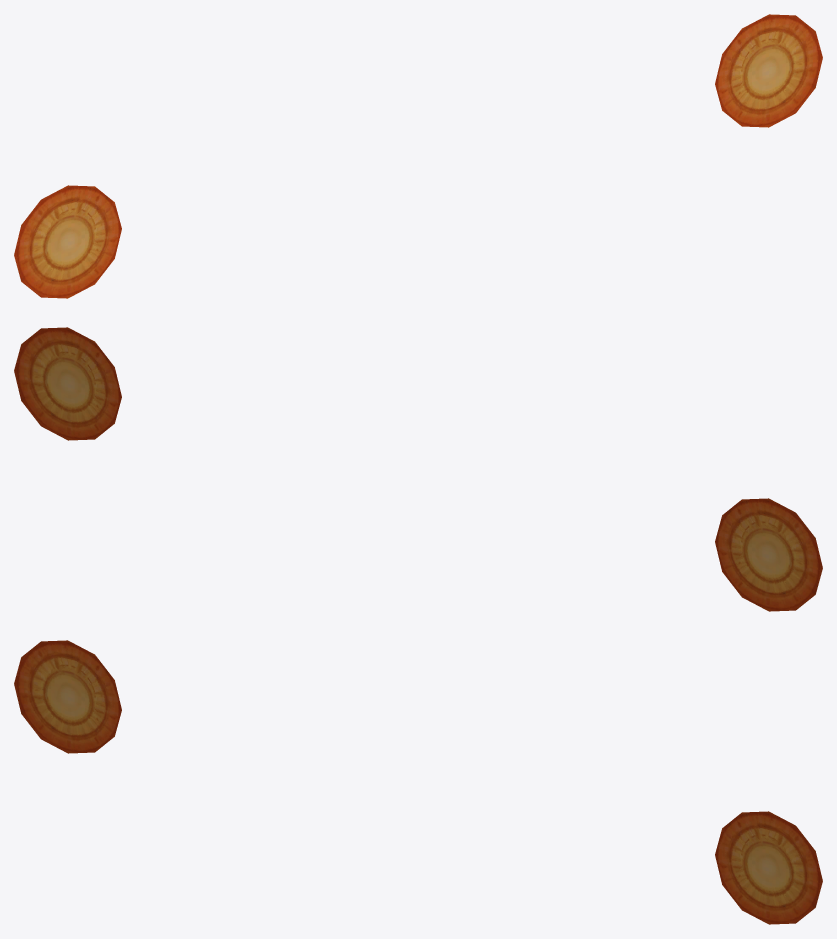
Rendered from hutt_fighter_medium_booster_s01_on_l0.fbx.
3 renders of one model, top to bottom at view 1: azimuth 30°, elevation 25°; view 2: azimuth 150°, elevation 25°; view 3: azimuth 330°, elevation 25°, orthographic.
Visible parts, largest first — view 1: mesh_node; view 2: mesh_node; view 3: mesh_node.
Part boxes in pixels (left/top/right/bottom): mesh_node: left=14, top=14, right=822, bottom=298; mesh_node: left=14, top=327, right=822, bottom=611; mesh_node: left=14, top=640, right=822, bottom=924.
Bounding box in the file's own units: 3.57 × 0.4774 × 0.
1 material, 1 textured.
